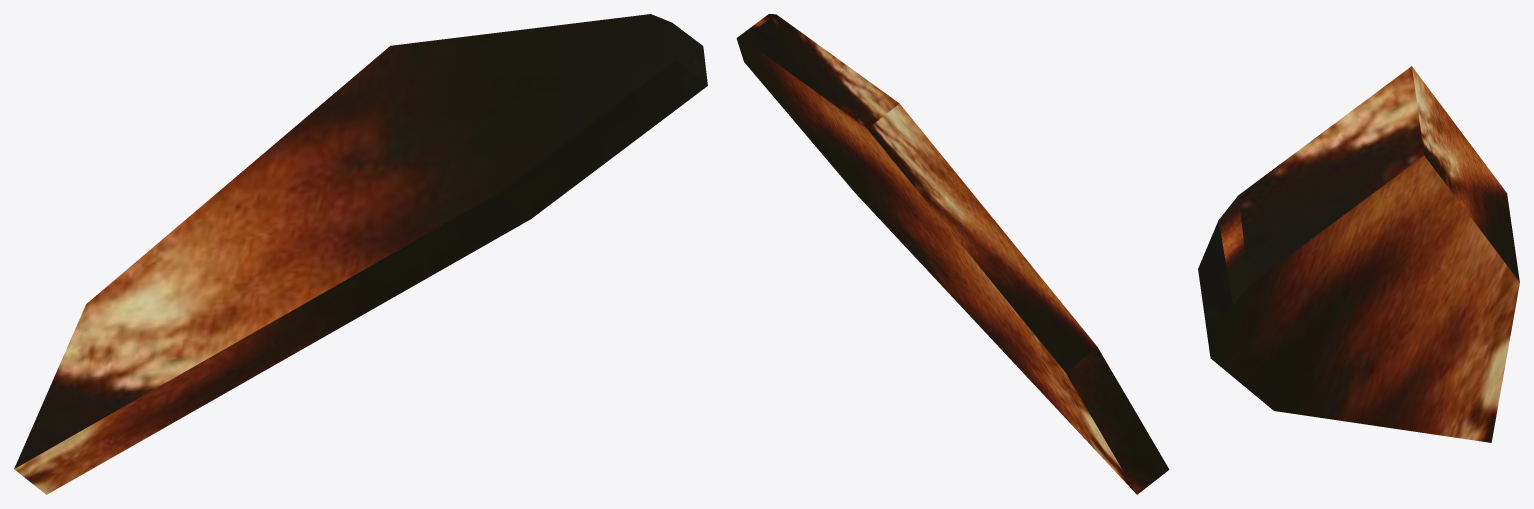
3 renders of one model, left to right at view 1: azimuth 30°, elevation 25°; view 2: azimuth 150°, elevation 25°; view 3: azimuth 270°, elevation 25°, orthographic. The views are drawn at different scales.
Visible parts, largest first — view 1: ak2; view 2: ak2; view 3: ak2.
Part boxes in pixels (x1,y1,x2,y2): ak2: [14, 14, 707, 494]; ak2: [736, 14, 1169, 494]; ak2: [1198, 66, 1519, 442].
Bounding box in the file's own units: 10.34 × 6.61 × 2.91.
1 material, 1 textured.
